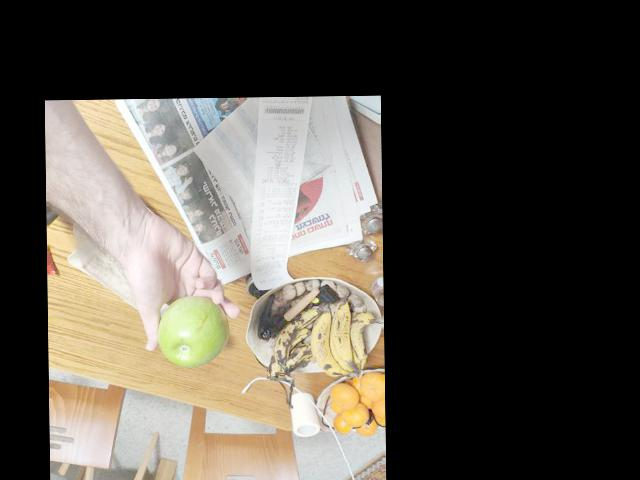apple: (155, 292, 231, 375)
